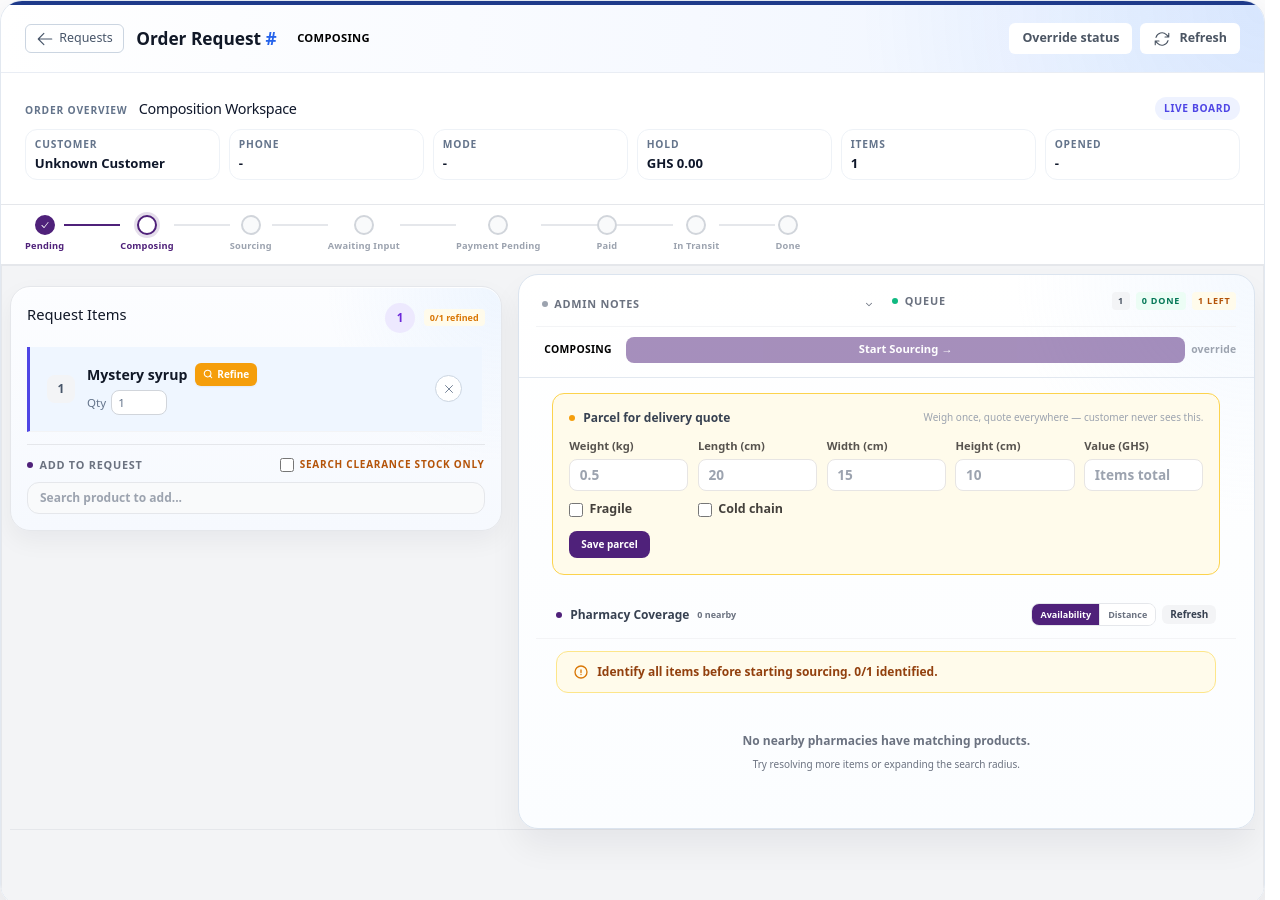
Test: identifying an item: free-typed search term › says so when it cannot be saved, and keeps the box open
Click the button "Refine" at (226,374), box x1=195 y1=363 x2=257 y2=386
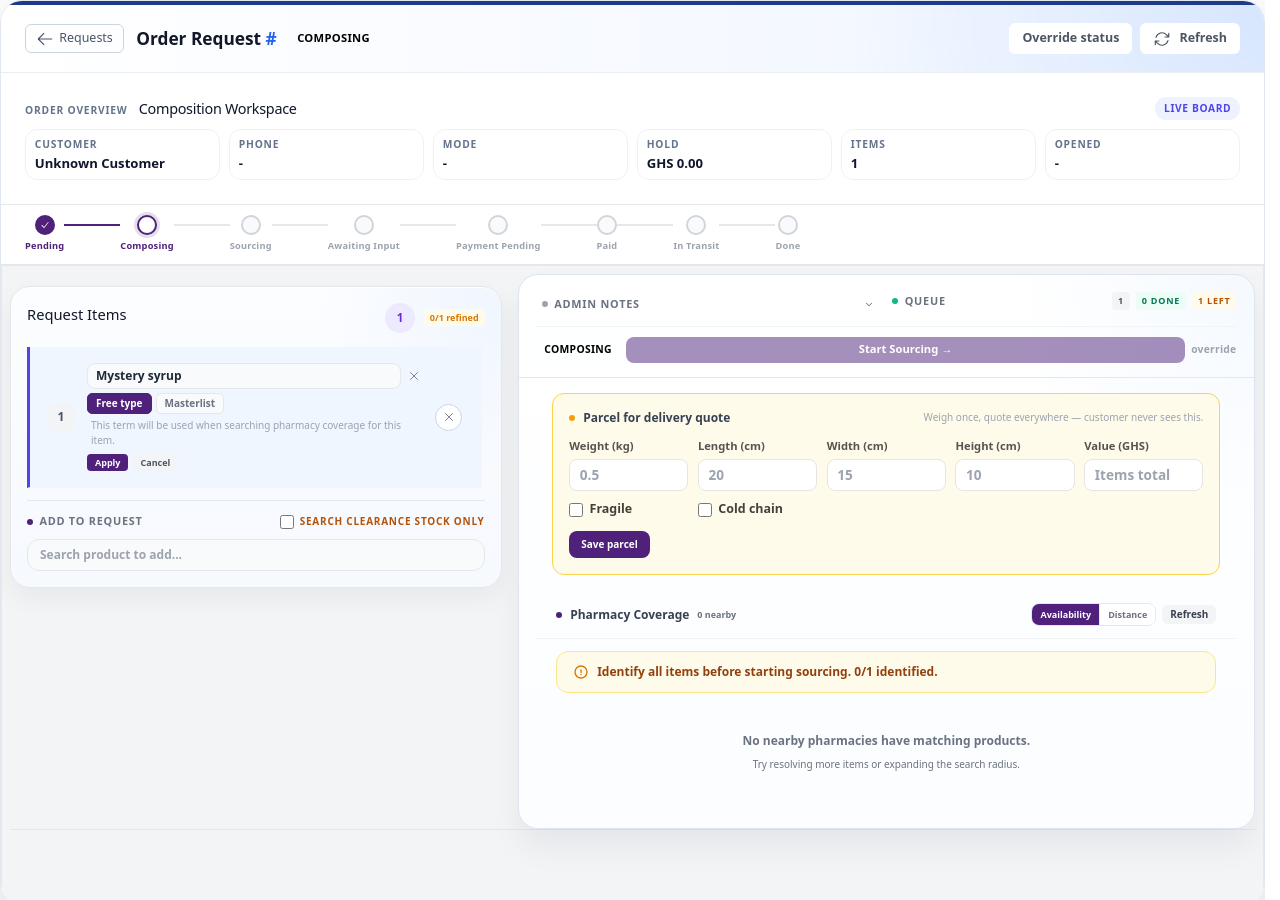
Click the button "Apply" at (108,463), box x1=87 y1=454 x2=128 y2=472
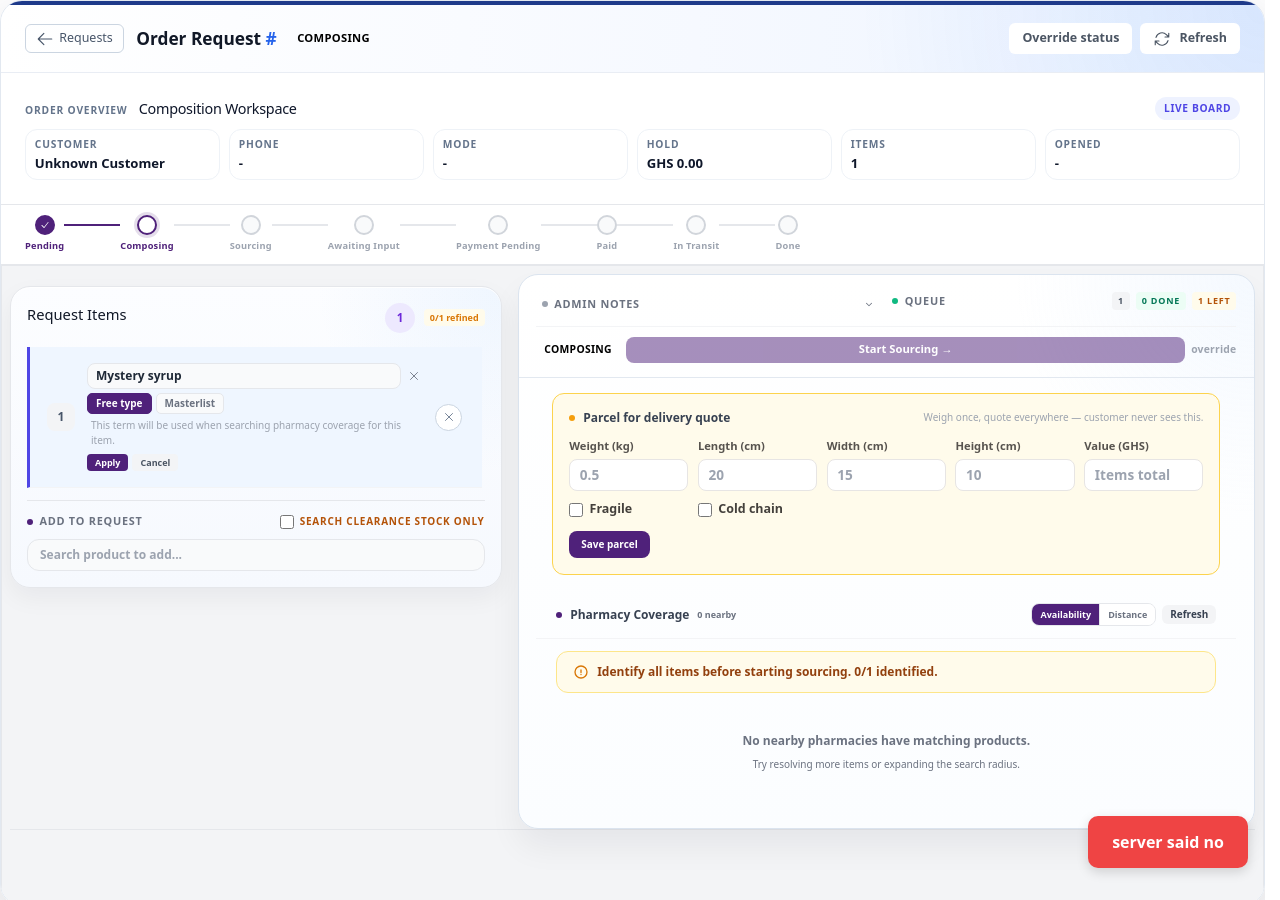
Result: the field with placeholder "Search master catalog..." is shown at x1=87 y1=363 x2=401 y2=389
Result: the text "server said no" is shown at x1=1088 y1=816 x2=1248 y2=868
